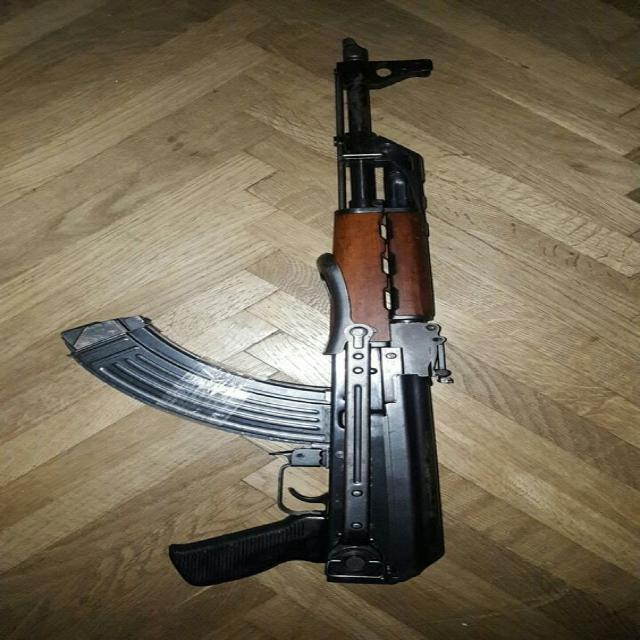ak: (57, 32, 480, 594)
